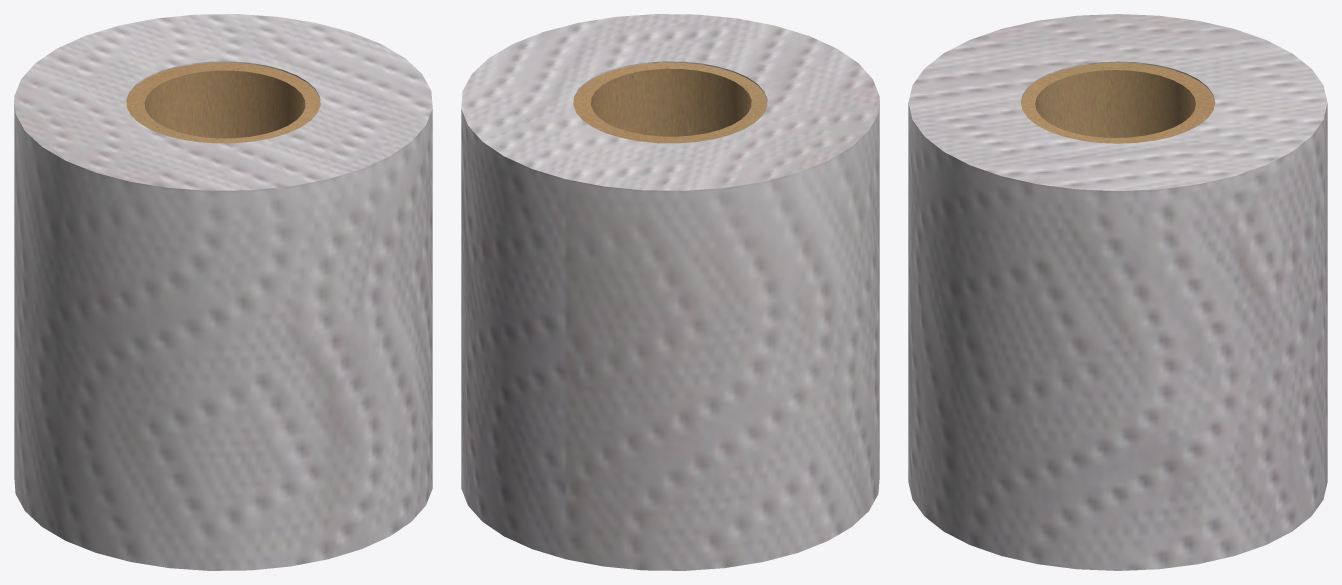
The model's file is toilet_paper.glb.
The picture shows the model from 3 angles, left to right: view 1: azimuth 30°, elevation 25°; view 2: azimuth 150°, elevation 25°; view 3: azimuth 270°, elevation 25°; orthographic projection.
Visible parts, largest first — view 1: Object_2, Object_3; view 2: Object_2, Object_3; view 3: Object_2, Object_3.
Part boxes in pixels (box(x1,y1,x2,y2)): Object_2: box(14, 14, 432, 570); Object_3: box(126, 62, 320, 143); Object_2: box(461, 14, 879, 570); Object_3: box(573, 62, 767, 143); Object_2: box(908, 14, 1327, 570); Object_3: box(1021, 62, 1214, 143).
Bounding box in the file's own units: 2 × 2 × 2.
Materials: 2 (2 with a texture image).
